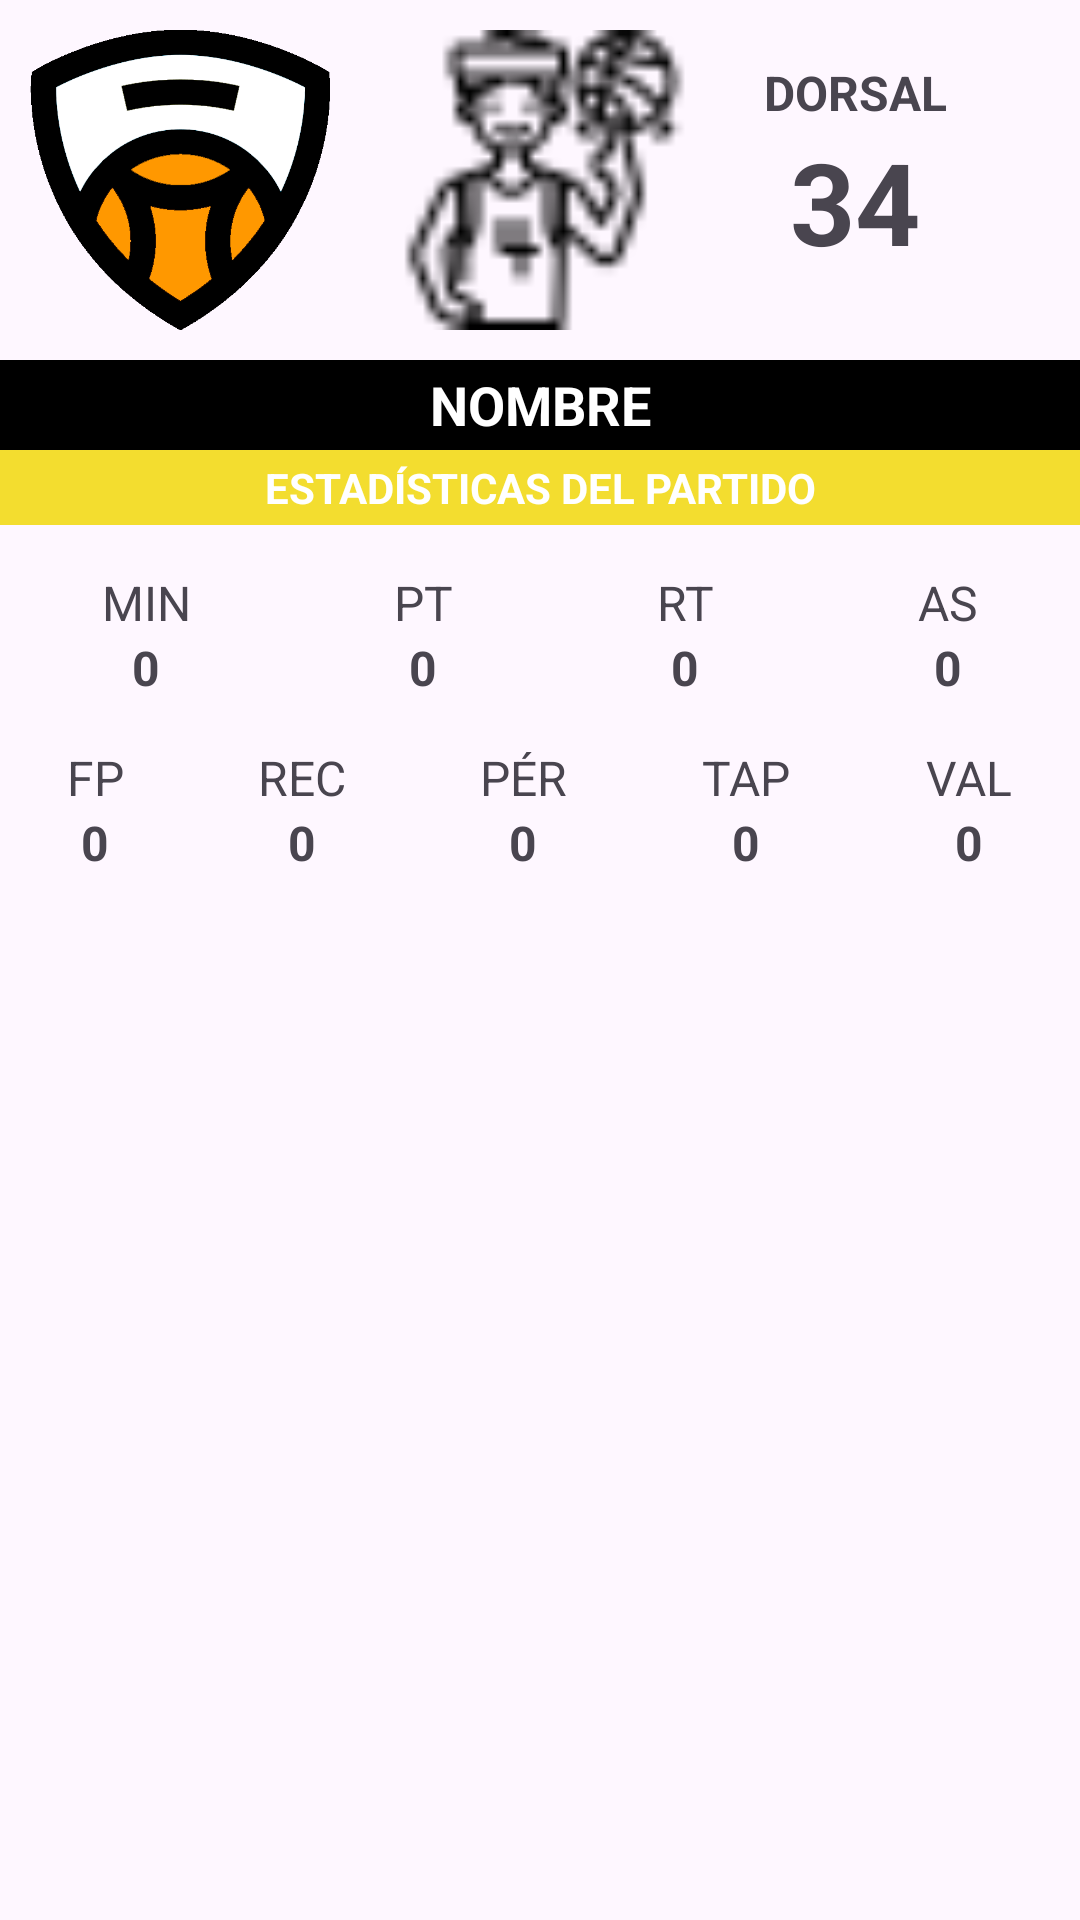

Icon bounding boxes for this 1080*1920 phone screenshot, format (x1, y1, x2, y2):
jugador de baloncesto: (405, 30, 683, 330)
